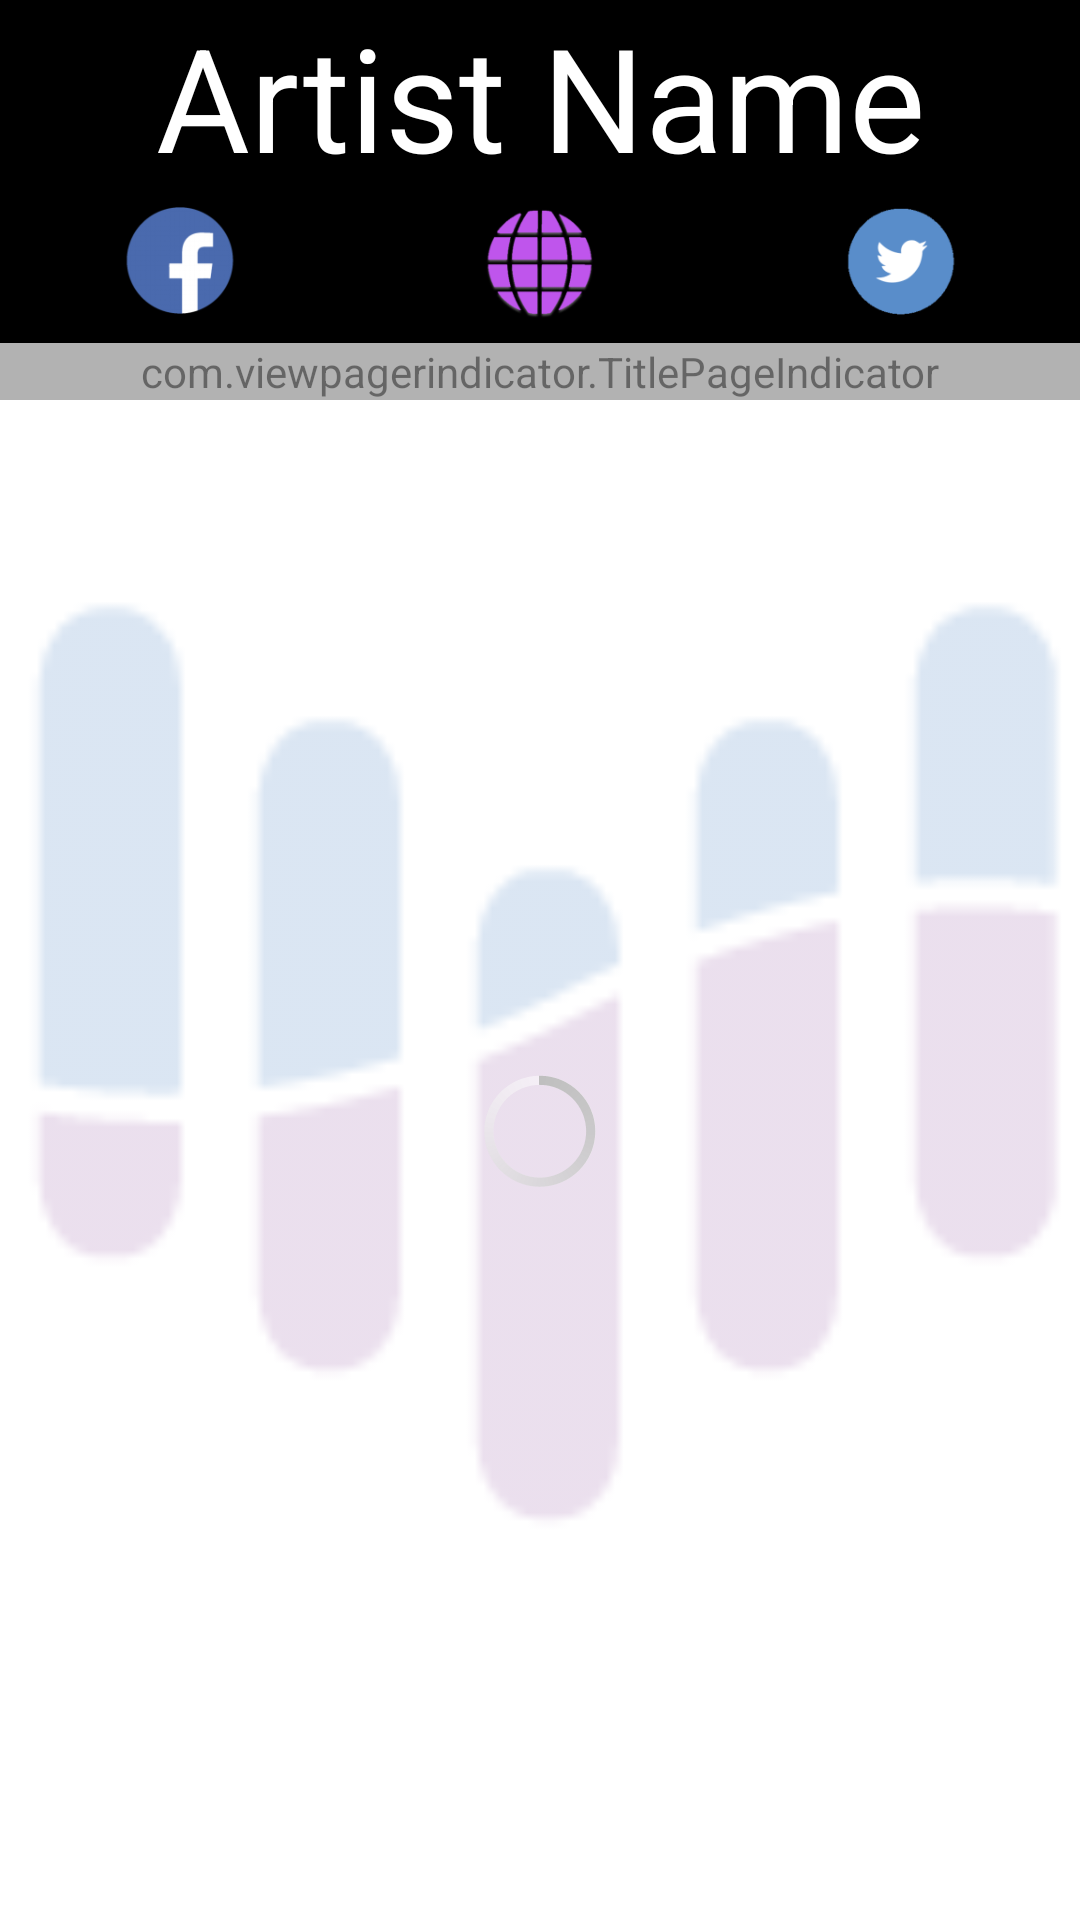

Where icons sit on this 1080px×1920px app screen, as (x1, y1, x2, y2):
world: (487, 210, 592, 316)
